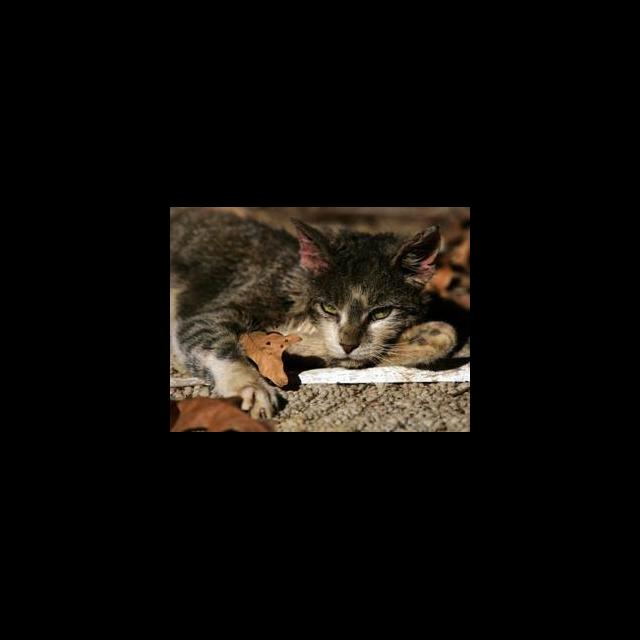animals: (172, 210, 462, 426)
